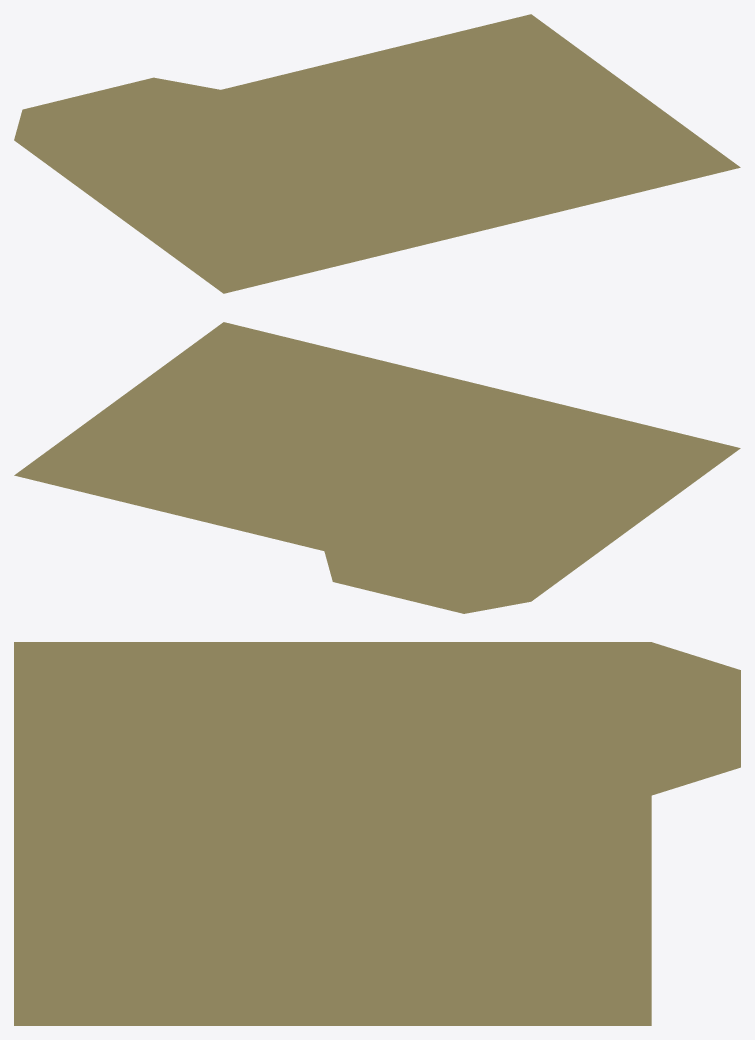
Rendered from infofile_temp.fbx.
The picture shows the model from 3 angles, top to bottom: view 1: azimuth 30°, elevation 25°; view 2: azimuth 150°, elevation 25°; view 3: azimuth 270°, elevation 25°; orthographic projection. The views are drawn at different scales.
Parts seen in each view (by area): view 1: polySurface29; view 2: polySurface29; view 3: polySurface29.
Boxes of the visible parts, box(x1,y1,x2,y2) form: polySurface29: box(14, 14, 740, 293); polySurface29: box(14, 322, 740, 613); polySurface29: box(14, 642, 740, 1025).
Bounding box in the file's own units: 10.13 × 0 × 8.11.
